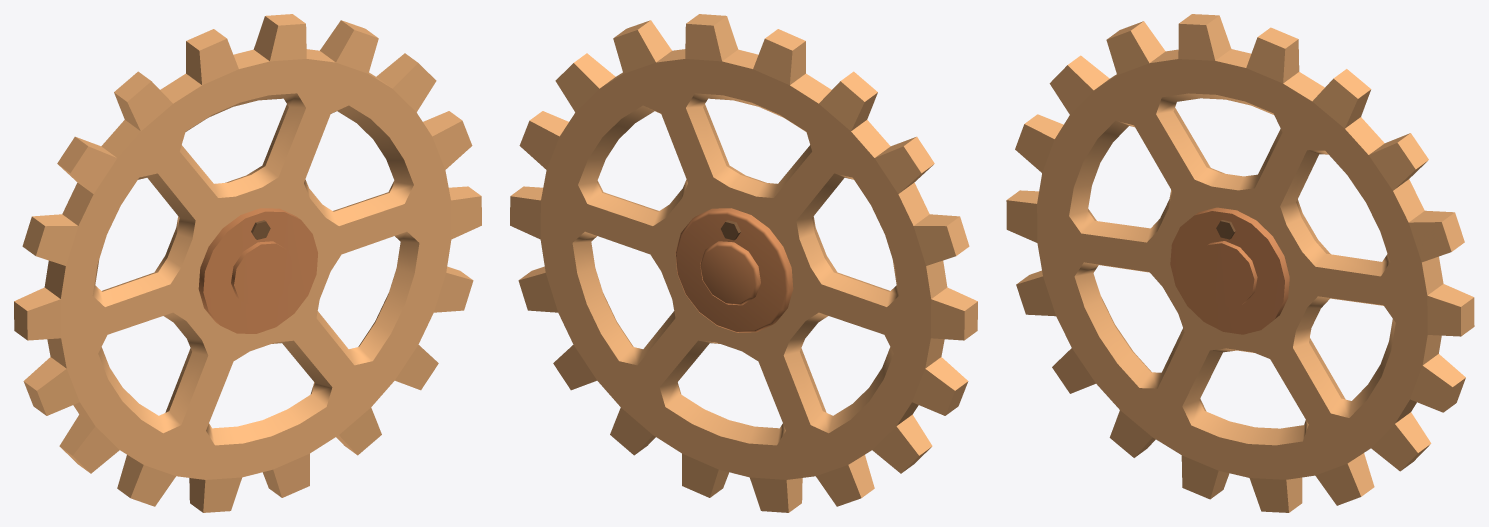
The model's file is obstacle_17_002.fbx.
3 views of the same model, side by side, from view 1: azimuth 30°, elevation 25°; view 2: azimuth 150°, elevation 25°; view 3: azimuth 330°, elevation 25° (orthographic).
Parts seen in each view (by area): view 1: obstacle_17_002; view 2: obstacle_17_002; view 3: obstacle_17_002.
Boxes of the visible parts, x1=… form: obstacle_17_002: x1=14, y1=14, x2=481, y2=512; obstacle_17_002: x1=510, y1=14, x2=977, y2=512; obstacle_17_002: x1=1006, y1=14, x2=1474, y2=512.
Size of the model in its own units: 360 by 43.34 by 359.
